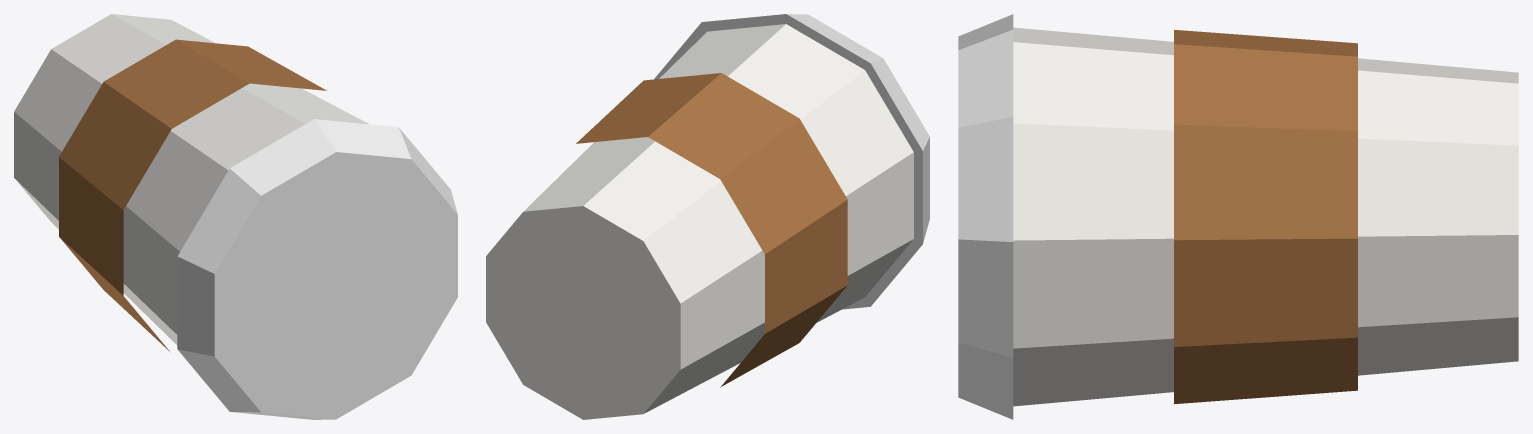
File: prop_coffee_cup.glb
3 renders of one model, left to right at view 1: azimuth 30°, elevation 25°; view 2: azimuth 150°, elevation 25°; view 3: azimuth 270°, elevation 25°, orthographic. The views are drawn at different scales.
Parts seen in each view (by area): view 1: PropCoffeeCup; view 2: PropCoffeeCup; view 3: PropCoffeeCup.
Part boxes in pixels (x1=…): PropCoffeeCup: x1=14, y1=14, x2=457, y2=419; PropCoffeeCup: x1=486, y1=14, x2=929, y2=419; PropCoffeeCup: x1=958, y1=14, x2=1518, y2=419.
Size of the model in its own units: 0.0856 by 0.09 by 0.122.
